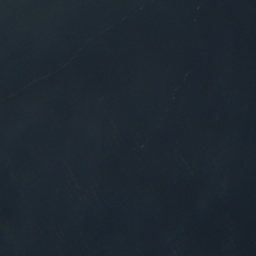Marine Debris: (132, 68, 194, 152), (196, 6, 200, 10)
